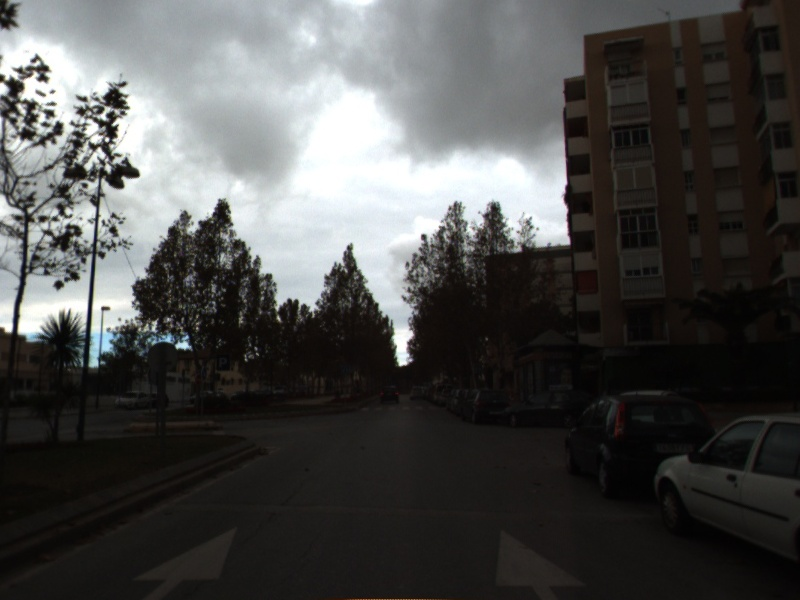STRAIGHT: (128, 521, 243, 600), (490, 522, 593, 600)
